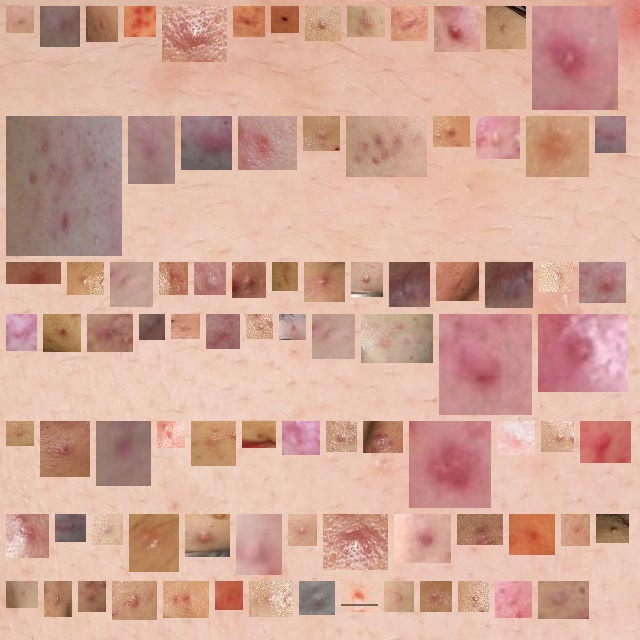papule: (14, 124, 114, 248), (447, 322, 524, 407), (540, 14, 610, 102), (417, 429, 483, 500), (546, 322, 620, 384), (354, 124, 419, 169), (534, 124, 581, 169), (170, 14, 219, 54), (331, 522, 380, 562), (104, 429, 143, 478), (369, 322, 425, 355), (246, 124, 289, 162), (136, 124, 167, 176), (137, 522, 171, 564), (48, 429, 82, 469), (402, 522, 443, 555), (244, 522, 274, 567), (189, 124, 224, 162), (493, 270, 525, 300), (588, 429, 623, 455), (442, 14, 472, 44), (199, 429, 228, 458), (118, 270, 145, 299), (320, 322, 347, 351), (193, 522, 222, 549), (587, 270, 618, 295), (546, 589, 581, 611), (484, 124, 512, 151), (14, 522, 41, 550), (517, 522, 547, 547), (397, 270, 422, 299), (120, 589, 149, 612), (95, 322, 125, 344), (494, 14, 518, 41), (171, 589, 201, 610), (444, 270, 471, 293), (48, 14, 72, 39), (312, 270, 337, 294), (257, 589, 285, 609), (14, 270, 53, 283), (51, 322, 73, 344), (465, 522, 495, 537), (503, 589, 524, 610), (399, 14, 420, 33), (311, 124, 332, 143), (290, 429, 312, 447), (505, 429, 527, 447), (371, 429, 395, 445), (313, 14, 333, 33), (240, 270, 258, 290), (307, 589, 327, 607), (75, 270, 96, 287), (214, 322, 232, 341), (355, 14, 377, 29), (94, 14, 110, 34), (441, 124, 462, 139), (603, 124, 618, 145), (14, 322, 29, 343), (349, 589, 370, 604), (359, 270, 375, 289), (202, 270, 218, 287), (549, 429, 566, 444), (547, 270, 565, 284), (132, 14, 148, 29), (241, 14, 257, 29), (52, 589, 64, 609), (428, 589, 444, 604), (334, 429, 349, 444), (100, 522, 115, 537), (466, 589, 481, 604), (167, 270, 180, 287), (604, 522, 621, 535), (392, 589, 406, 604), (296, 522, 309, 538), (569, 522, 582, 538), (250, 429, 268, 440), (63, 522, 78, 534), (86, 589, 98, 604), (14, 589, 30, 600), (223, 589, 235, 602), (14, 14, 26, 25), (279, 14, 291, 25), (165, 429, 177, 440), (280, 270, 290, 283), (179, 322, 192, 331), (287, 322, 298, 332), (14, 429, 26, 438), (147, 322, 157, 332), (254, 322, 265, 331)
